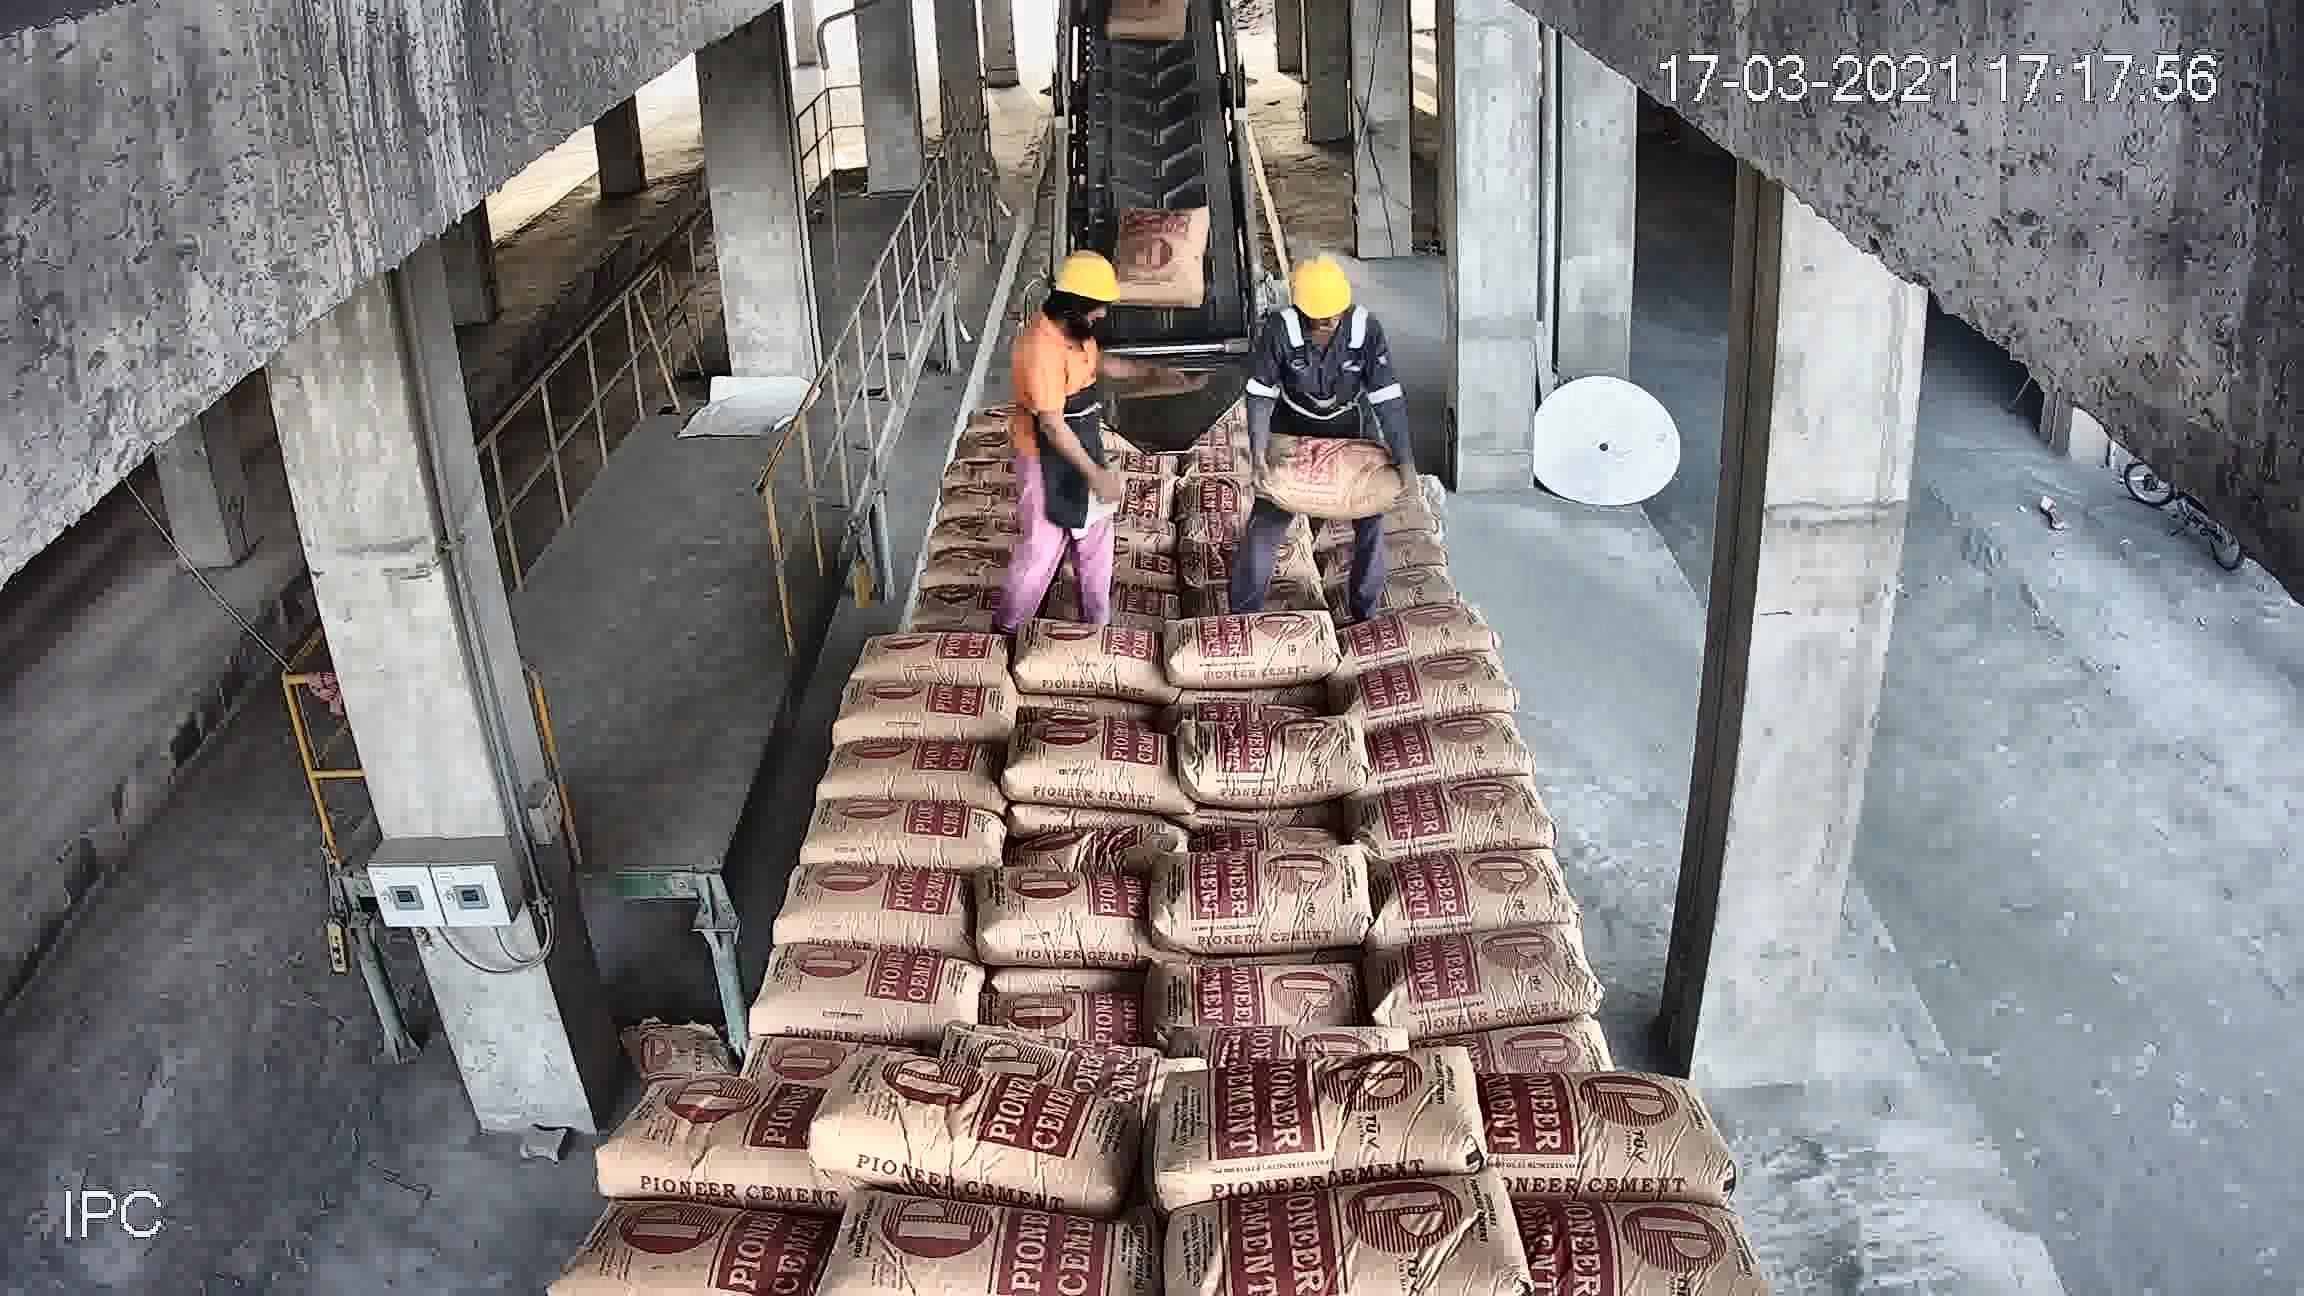bag: (1117, 203, 1204, 310)
bag_h: (1150, 1055, 1491, 1199), (817, 1046, 1127, 1203), (1160, 1184, 1519, 1294), (820, 1185, 1184, 1291), (589, 1071, 828, 1209), (1473, 1079, 1719, 1201), (1513, 1180, 1769, 1294), (571, 1198, 867, 1291), (1370, 921, 1601, 1033), (1158, 836, 1377, 954), (745, 945, 995, 1048), (1362, 847, 1579, 946), (775, 851, 980, 956), (964, 869, 1166, 968), (1347, 769, 1557, 864), (1176, 711, 1362, 809), (1150, 961, 1367, 1044), (999, 715, 1188, 805), (801, 798, 1014, 872), (1351, 711, 1532, 793), (938, 1016, 1166, 1079), (817, 734, 1006, 807), (1006, 820, 1192, 894), (1174, 608, 1324, 696), (1331, 654, 1516, 725), (1332, 597, 1513, 669), (1434, 1025, 1622, 1089), (1014, 620, 1166, 698), (991, 976, 1152, 1049), (836, 682, 1008, 748), (1258, 441, 1412, 510), (859, 627, 1014, 688), (913, 544, 1021, 597), (913, 508, 1017, 554), (897, 578, 1019, 616), (935, 470, 1014, 521), (1101, 513, 1180, 559), (1176, 476, 1247, 524)
bag_v: (1112, 335, 1196, 446)
belt: (1040, 5, 1264, 385)
